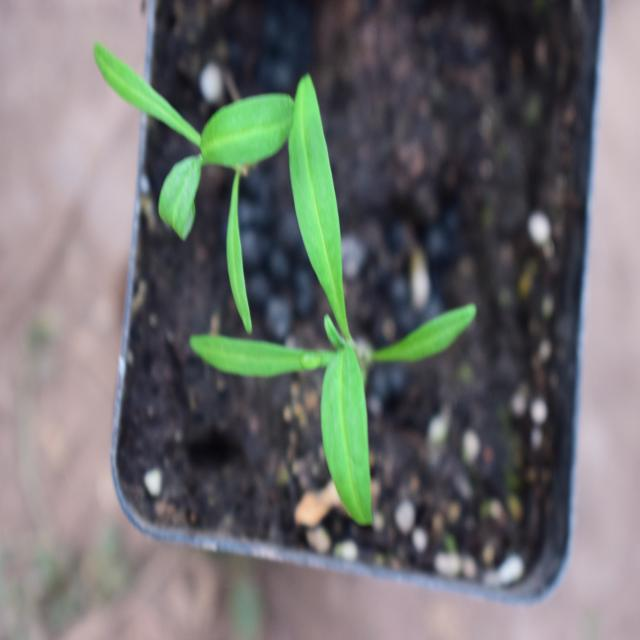white_smart_weed: (234, 83, 464, 528)
